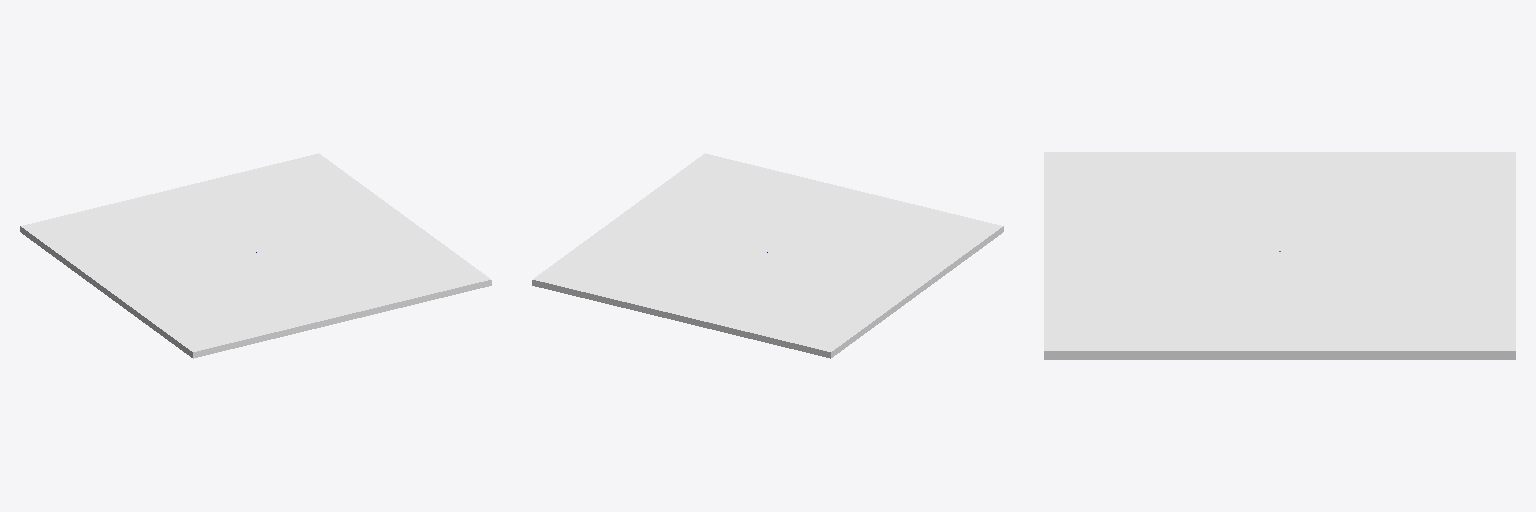
The robot description file, URDF, robot "idefX":
<?xml version="1.0" ?>
<robot name="idefX">
	<material name="black">
		<color rgba="0.0 0.0 0.0 1.0"/>
	</material>
	<material name="blue">
		<color rgba="0.0 0.0 0.8 1.0"/>
	</material>
	<material name="green">
		<color rgba="0.0 0.8 0.0 1.0"/>
	</material>
	<material name="grey">
		<color rgba="0.2 0.2 0.2 1.0"/>
	</material>
	<material name="silver">
		<color rgba="0.913725490196 0.913725490196 0.847058823529 1.0"/>
	</material>
	<material name="orange">
		<color rgba="1.0 0.423529411765 0.0392156862745 1.0"/>
	</material>
	<material name="brown">
		<color rgba="0.870588235294 0.811764705882 0.764705882353 1.0"/>
	</material>
	<material name="red">
		<color rgba="0.8 0.0 0.0 1.0"/>
	</material>
	<material name="white">
		<color rgba="1.0 1.0 1.0 1.0"/>
	</material>
	<link name="ground">
		<visual>
			<origin xyz="0 0 -1" rpy="0 0 0"/>
			<geometry>
				<box size="100 100 2"/>
			</geometry>
			<material name="white"/>
		</visual>
		<collision>
			<origin xyz="0 0 -1" rpy="0 0 0"/>
			<geometry>
				<box size="100 100 2"/>
			</geometry>
		</collision>
	</link>
	<link name="trunk">
		<visual>
			<origin xyz="0 0 0" rpy="0 0 0"/>
			<geometry>
				<mesh filename="../data/idefX/trunk.dae"/>
			</geometry>
		</visual>
		<inertial>
			<origin xyz="0 0 0" rpy="0 0 0"/>
			<mass value="7.5"/>
			<inertia ixx="0.05" ixy="0" ixz="0" iyy="0.05" iyz="0" izz="0.05"/>
		</inertial>
	</link>
	<joint name="trunk_joint" type="floating">
		<origin rpy="0 0 0" xyz="0 0 0"/>
		<parent link="ground"/>
		<child link="trunk"/>
	</joint>
	<joint name="FL_first_motor_joint" type="fixed">
		<origin rpy="0 0 0" xyz="0.15250000000000002 0.075 0.0"/>
		<parent link="trunk"/>
		<child link="FL_first_motor"/>
	</joint>
	<link name="FL_first_motor">
		<visual>
			<origin xyz="0 0 0" rpy="0 1.5707963267948966 0"/>
			<geometry>
				<sphere radius="0.03"/>
			</geometry>
			<material name="blue"/>
		</visual>
		<inertial>
			<origin xyz="0 0 0" rpy="0 1.5707963267948966 0"/>
			<mass value="0.7"/>
			<inertia ixx="0.00184" ixy="0" ixz="0" iyy="0.00184" iyz="0" izz="0.0035"/>
		</inertial>
	</link>
	<joint name="FL_clavicle_joint" type="revolute">
		<origin rpy="0 0 0" xyz="0.225 0.075 -0.0"/>
		<parent link="trunk"/>
		<child link="FL_clavicle"/>
		<axis xyz="1 0 0"/>
		<dynamics damping="0" friction="0"/>
		<limit effort="10000" velocity="100000"/>
	</joint>
	<link name="FL_clavicle">
		<visual>
			<origin xyz="0 0.0325 0" rpy="0 0 0"/>
			<geometry>
				<sphere radius="0.03"/>
			</geometry>
			<material name="blue"/>
		</visual>
		<inertial>
			<origin xyz="0 0.0325 0" rpy="0 0 0"/>
			<mass value="0.7"/>
			<inertia ixx="0.00184" ixy="0" ixz="0" iyy="0.00184" iyz="0" izz="0.0035"/>
		</inertial>
	</link>
	<joint name="FL_arm_joint" type="revolute">
		<origin rpy="0 0 0" xyz="0 0.07 0"/>
		<parent link="FL_clavicle"/>
		<child link="FL_arm"/>
		<axis xyz="0 1 0"/>
		<dynamics damping="0" friction="0"/>
		<limit effort="10000" velocity="100000"/>
	</joint>
	<link name="FL_arm">
		<visual>
			<origin xyz="0 0 -0.098" rpy="0 0 0"/>
			<geometry>
				<sphere radius="0.03"/>
			</geometry>
			<material name="blue"/>
		</visual>
		<inertial>
			<origin xyz="0 0 -0.098" rpy="0 0 0"/>
			<mass value="0.2"/>
			<inertia ixx="0.0002" ixy="0" ixz="0" iyy="0.0002" iyz="0" izz="8e-05"/>
		</inertial>
	</link>
	<joint name="FL_third_motor_joint" type="fixed">
		<origin rpy="0 0 0" xyz="0.0 0.037500000000000006 0.0"/>
		<parent link="FL_arm"/>
		<child link="FL_third_motor"/>
	</joint>
	<link name="FL_third_motor">
		<visual>
			<origin xyz="0 0 0" rpy="0 0 0"/>
			<geometry>
				<sphere radius="0.03"/>
			</geometry>
			<material name="blue"/>
		</visual>
		<inertial>
			<origin xyz="0 0 0" rpy="0 0 0"/>
			<mass value="0.7"/>
			<inertia ixx="0.00184" ixy="0" ixz="0" iyy="0.00184" iyz="0" izz="0.0035"/>
		</inertial>
	</link>
	<joint name="FL_forearm_joint" type="revolute">
		<origin rpy="0 0 0" xyz="0 0.01 -0.196"/>
		<parent link="FL_arm"/>
		<child link="FL_forearm"/>
		<axis xyz="0 1 0"/>
		<dynamics damping="0" friction="0"/>
		<limit effort="10000" velocity="100000"/>
	</joint>
	<link name="FL_forearm">
		<visual>
			<origin xyz="0 0 -0.1" rpy="0 0 0"/>
			<geometry>
				<sphere radius="0.03"/>
			</geometry>
			<material name="blue"/>
		</visual>
		<inertial>
			<origin xyz="0 0 -0.1" rpy="0 0 0"/>
			<mass value="0.1"/>
			<inertia ixx="0.0001" ixy="0" ixz="0" iyy="0.0001" iyz="0" izz="4e-05"/>
		</inertial>
	</link>
	<joint name="FL_foot_joint" type="fixed">
		<origin rpy="0 0 0" xyz="0 0 -0.2"/>
		<parent link="FL_forearm"/>
		<child link="FL_foot"/>
	</joint>
	<link name="FL_foot">
		<visual>
			<origin xyz="0 0 0" rpy="0 0 0"/>
			<geometry>
				<sphere radius="0.03"/>
			</geometry>
			<material name="blue"/>
		</visual>
		<inertial>
			<origin xyz="0 0 0" rpy="0 0 0"/>
			<mass value="0.01"/>
			<inertia ixx="6e-06" ixy="0" ixz="0" iyy="6e-06" iyz="0" izz="6e-06"/>
		</inertial>
	</link>
	<joint name="FR_first_motor_joint" type="fixed">
		<origin rpy="0 0 0" xyz="0.15250000000000002 -0.075 0.0"/>
		<parent link="trunk"/>
		<child link="FR_first_motor"/>
	</joint>
	<link name="FR_first_motor">
		<visual>
			<origin xyz="0 0 0" rpy="0 1.5707963267948966 0"/>
			<geometry>
				<sphere radius="0.03"/>
			</geometry>
			<material name="blue"/>
		</visual>
		<inertial>
			<origin xyz="0 0 0" rpy="0 1.5707963267948966 0"/>
			<mass value="0.7"/>
			<inertia ixx="0.00184" ixy="0" ixz="0" iyy="0.00184" iyz="0" izz="0.0035"/>
		</inertial>
	</link>
	<joint name="FR_clavicle_joint" type="revolute">
		<origin rpy="0 0 0" xyz="0.225 -0.075 -0.0"/>
		<parent link="trunk"/>
		<child link="FR_clavicle"/>
		<axis xyz="1 0 0"/>
		<dynamics damping="0" friction="0"/>
		<limit effort="10000" velocity="100000"/>
	</joint>
	<link name="FR_clavicle">
		<visual>
			<origin xyz="0 -0.0325 0" rpy="0 0 0"/>
			<geometry>
				<sphere radius="0.03"/>
			</geometry>
			<material name="blue"/>
		</visual>
		<inertial>
			<origin xyz="0 -0.0325 0" rpy="0 0 0"/>
			<mass value="0.7"/>
			<inertia ixx="0.00184" ixy="0" ixz="0" iyy="0.00184" iyz="0" izz="0.0035"/>
		</inertial>
	</link>
	<joint name="FR_arm_joint" type="revolute">
		<origin rpy="0 0 0" xyz="0 -0.07 0"/>
		<parent link="FR_clavicle"/>
		<child link="FR_arm"/>
		<axis xyz="0 1 0"/>
		<dynamics damping="0" friction="0"/>
		<limit effort="10000" velocity="100000"/>
	</joint>
	<link name="FR_arm">
		<visual>
			<origin xyz="0 0 -0.098" rpy="0 0 0"/>
			<geometry>
				<sphere radius="0.03"/>
			</geometry>
			<material name="blue"/>
		</visual>
		<inertial>
			<origin xyz="0 0 -0.098" rpy="0 0 0"/>
			<mass value="0.2"/>
			<inertia ixx="0.0002" ixy="0" ixz="0" iyy="0.0002" iyz="0" izz="8e-05"/>
		</inertial>
	</link>
	<joint name="FR_third_motor_joint" type="fixed">
		<origin rpy="0 0 0" xyz="0.0 -0.037500000000000006 0.0"/>
		<parent link="FR_arm"/>
		<child link="FR_third_motor"/>
	</joint>
	<link name="FR_third_motor">
		<visual>
			<origin xyz="0 0 0" rpy="0 0 0"/>
			<geometry>
				<sphere radius="0.03"/>
			</geometry>
			<material name="blue"/>
		</visual>
		<inertial>
			<origin xyz="0 0 0" rpy="0 0 0"/>
			<mass value="0.7"/>
			<inertia ixx="0.00184" ixy="0" ixz="0" iyy="0.00184" iyz="0" izz="0.0035"/>
		</inertial>
	</link>
	<joint name="FR_forearm_joint" type="revolute">
		<origin rpy="0 0 0" xyz="0 -0.01 -0.196"/>
		<parent link="FR_arm"/>
		<child link="FR_forearm"/>
		<axis xyz="0 1 0"/>
		<dynamics damping="0" friction="0"/>
		<limit effort="10000" velocity="100000"/>
	</joint>
	<link name="FR_forearm">
		<visual>
			<origin xyz="0 0 -0.1" rpy="0 0 0"/>
			<geometry>
				<sphere radius="0.03"/>
			</geometry>
			<material name="blue"/>
		</visual>
		<inertial>
			<origin xyz="0 0 -0.1" rpy="0 0 0"/>
			<mass value="0.1"/>
			<inertia ixx="0.0001" ixy="0" ixz="0" iyy="0.0001" iyz="0" izz="4e-05"/>
		</inertial>
	</link>
	<joint name="FR_foot_joint" type="fixed">
		<origin rpy="0 0 0" xyz="0 0 -0.2"/>
		<parent link="FR_forearm"/>
		<child link="FR_foot"/>
	</joint>
	<link name="FR_foot">
		<visual>
			<origin xyz="0 0 0" rpy="0 0 0"/>
			<geometry>
				<sphere radius="0.03"/>
			</geometry>
			<material name="blue"/>
		</visual>
		<inertial>
			<origin xyz="0 0 0" rpy="0 0 0"/>
			<mass value="0.01"/>
			<inertia ixx="6e-06" ixy="0" ixz="0" iyy="6e-06" iyz="0" izz="6e-06"/>
		</inertial>
	</link>
	<joint name="BL_first_motor_joint" type="fixed">
		<origin rpy="0 0 0" xyz="-0.15250000000000002 0.075 0.0"/>
		<parent link="trunk"/>
		<child link="BL_first_motor"/>
	</joint>
	<link name="BL_first_motor">
		<visual>
			<origin xyz="0 0 0" rpy="0 1.5707963267948966 0"/>
			<geometry>
				<sphere radius="0.03"/>
			</geometry>
			<material name="blue"/>
		</visual>
		<inertial>
			<origin xyz="0 0 0" rpy="0 1.5707963267948966 0"/>
			<mass value="0.7"/>
			<inertia ixx="0.00184" ixy="0" ixz="0" iyy="0.00184" iyz="0" izz="0.0035"/>
		</inertial>
	</link>
	<joint name="BL_clavicle_joint" type="revolute">
		<origin rpy="0 0 0" xyz="-0.225 0.075 -0.0"/>
		<parent link="trunk"/>
		<child link="BL_clavicle"/>
		<axis xyz="1 0 0"/>
		<dynamics damping="0" friction="0"/>
		<limit effort="10000" velocity="100000"/>
	</joint>
	<link name="BL_clavicle">
		<visual>
			<origin xyz="0 0.0325 0" rpy="0 0 0"/>
			<geometry>
				<sphere radius="0.03"/>
			</geometry>
			<material name="blue"/>
		</visual>
		<inertial>
			<origin xyz="0 0.0325 0" rpy="0 0 0"/>
			<mass value="0.7"/>
			<inertia ixx="0.00184" ixy="0" ixz="0" iyy="0.00184" iyz="0" izz="0.0035"/>
		</inertial>
	</link>
	<joint name="BL_arm_joint" type="revolute">
		<origin rpy="0 0 0" xyz="0 0.07 0"/>
		<parent link="BL_clavicle"/>
		<child link="BL_arm"/>
		<axis xyz="0 1 0"/>
		<dynamics damping="0" friction="0"/>
		<limit effort="10000" velocity="100000"/>
	</joint>
	<link name="BL_arm">
		<visual>
			<origin xyz="0 0 -0.098" rpy="0 0 0"/>
			<geometry>
				<sphere radius="0.03"/>
			</geometry>
			<material name="blue"/>
		</visual>
		<inertial>
			<origin xyz="0 0 -0.098" rpy="0 0 0"/>
			<mass value="0.2"/>
			<inertia ixx="0.0002" ixy="0" ixz="0" iyy="0.0002" iyz="0" izz="8e-05"/>
		</inertial>
	</link>
	<joint name="BL_third_motor_joint" type="fixed">
		<origin rpy="0 0 0" xyz="0.0 0.037500000000000006 0.0"/>
		<parent link="BL_arm"/>
		<child link="BL_third_motor"/>
	</joint>
	<link name="BL_third_motor">
		<visual>
			<origin xyz="0 0 0" rpy="0 0 0"/>
			<geometry>
				<sphere radius="0.03"/>
			</geometry>
			<material name="blue"/>
		</visual>
		<inertial>
			<origin xyz="0 0 0" rpy="0 0 0"/>
			<mass value="0.7"/>
			<inertia ixx="0.00184" ixy="0" ixz="0" iyy="0.00184" iyz="0" izz="0.0035"/>
		</inertial>
	</link>
	<joint name="BL_forearm_joint" type="revolute">
		<origin rpy="0 0 0" xyz="0 0.01 -0.196"/>
		<parent link="BL_arm"/>
		<child link="BL_forearm"/>
		<axis xyz="0 1 0"/>
		<dynamics damping="0" friction="0"/>
		<limit effort="10000" velocity="100000"/>
	</joint>
	<link name="BL_forearm">
		<visual>
			<origin xyz="0 0 -0.1" rpy="0 0 0"/>
			<geometry>
				<sphere radius="0.03"/>
			</geometry>
			<material name="blue"/>
		</visual>
		<inertial>
			<origin xyz="0 0 -0.1" rpy="0 0 0"/>
			<mass value="0.1"/>
			<inertia ixx="0.0001" ixy="0" ixz="0" iyy="0.0001" iyz="0" izz="4e-05"/>
		</inertial>
	</link>
	<joint name="BL_foot_joint" type="fixed">
		<origin rpy="0 0 0" xyz="0 0 -0.2"/>
		<parent link="BL_forearm"/>
		<child link="BL_foot"/>
	</joint>
	<link name="BL_foot">
		<visual>
			<origin xyz="0 0 0" rpy="0 0 0"/>
			<geometry>
				<sphere radius="0.03"/>
			</geometry>
			<material name="blue"/>
		</visual>
		<inertial>
			<origin xyz="0 0 0" rpy="0 0 0"/>
			<mass value="0.01"/>
			<inertia ixx="6e-06" ixy="0" ixz="0" iyy="6e-06" iyz="0" izz="6e-06"/>
		</inertial>
	</link>
	<joint name="BR_first_motor_joint" type="fixed">
		<origin rpy="0 0 0" xyz="-0.15250000000000002 -0.075 0.0"/>
		<parent link="trunk"/>
		<child link="BR_first_motor"/>
	</joint>
	<link name="BR_first_motor">
		<visual>
			<origin xyz="0 0 0" rpy="0 1.5707963267948966 0"/>
			<geometry>
				<sphere radius="0.03"/>
			</geometry>
			<material name="blue"/>
		</visual>
		<inertial>
			<origin xyz="0 0 0" rpy="0 1.5707963267948966 0"/>
			<mass value="0.7"/>
			<inertia ixx="0.00184" ixy="0" ixz="0" iyy="0.00184" iyz="0" izz="0.0035"/>
		</inertial>
	</link>
	<joint name="BR_clavicle_joint" type="revolute">
		<origin rpy="0 0 0" xyz="-0.225 -0.075 -0.0"/>
		<parent link="trunk"/>
		<child link="BR_clavicle"/>
		<axis xyz="1 0 0"/>
		<dynamics damping="0" friction="0"/>
		<limit effort="10000" velocity="100000"/>
	</joint>
	<link name="BR_clavicle">
		<visual>
			<origin xyz="0 -0.0325 0" rpy="0 0 0"/>
			<geometry>
				<sphere radius="0.03"/>
			</geometry>
			<material name="blue"/>
		</visual>
		<inertial>
			<origin xyz="0 -0.0325 0" rpy="0 0 0"/>
			<mass value="0.7"/>
			<inertia ixx="0.00184" ixy="0" ixz="0" iyy="0.00184" iyz="0" izz="0.0035"/>
		</inertial>
	</link>
	<joint name="BR_arm_joint" type="revolute">
		<origin rpy="0 0 0" xyz="0 -0.07 0"/>
		<parent link="BR_clavicle"/>
		<child link="BR_arm"/>
		<axis xyz="0 1 0"/>
		<dynamics damping="0" friction="0"/>
		<limit effort="10000" velocity="100000"/>
	</joint>
	<link name="BR_arm">
		<visual>
			<origin xyz="0 0 -0.098" rpy="0 0 0"/>
			<geometry>
				<sphere radius="0.03"/>
			</geometry>
			<material name="blue"/>
		</visual>
		<inertial>
			<origin xyz="0 0 -0.098" rpy="0 0 0"/>
			<mass value="0.2"/>
			<inertia ixx="0.0002" ixy="0" ixz="0" iyy="0.0002" iyz="0" izz="8e-05"/>
		</inertial>
	</link>
	<joint name="BR_third_motor_joint" type="fixed">
		<origin rpy="0 0 0" xyz="0.0 -0.037500000000000006 0.0"/>
		<parent link="BR_arm"/>
		<child link="BR_third_motor"/>
	</joint>
	<link name="BR_third_motor">
		<visual>
			<origin xyz="0 0 0" rpy="0 0 0"/>
			<geometry>
				<sphere radius="0.03"/>
			</geometry>
			<material name="blue"/>
		</visual>
		<inertial>
			<origin xyz="0 0 0" rpy="0 0 0"/>
			<mass value="0.7"/>
			<inertia ixx="0.00184" ixy="0" ixz="0" iyy="0.00184" iyz="0" izz="0.0035"/>
		</inertial>
	</link>
	<joint name="BR_forearm_joint" type="revolute">
		<origin rpy="0 0 0" xyz="0 -0.01 -0.196"/>
		<parent link="BR_arm"/>
		<child link="BR_forearm"/>
		<axis xyz="0 1 0"/>
		<dynamics damping="0" friction="0"/>
		<limit effort="10000" velocity="100000"/>
	</joint>
	<link name="BR_forearm">
		<visual>
			<origin xyz="0 0 -0.1" rpy="0 0 0"/>
			<geometry>
				<sphere radius="0.03"/>
			</geometry>
			<material name="blue"/>
		</visual>
		<inertial>
			<origin xyz="0 0 -0.1" rpy="0 0 0"/>
			<mass value="0.1"/>
			<inertia ixx="0.0001" ixy="0" ixz="0" iyy="0.0001" iyz="0" izz="4e-05"/>
		</inertial>
	</link>
	<joint name="BR_foot_joint" type="fixed">
		<origin rpy="0 0 0" xyz="0 0 -0.2"/>
		<parent link="BR_forearm"/>
		<child link="BR_foot"/>
	</joint>
	<link name="BR_foot">
		<visual>
			<origin xyz="0 0 0" rpy="0 0 0"/>
			<geometry>
				<sphere radius="0.03"/>
			</geometry>
			<material name="blue"/>
		</visual>
		<inertial>
			<origin xyz="0 0 0" rpy="0 0 0"/>
			<mass value="0.01"/>
			<inertia ixx="6e-06" ixy="0" ixz="0" iyy="6e-06" iyz="0" izz="6e-06"/>
		</inertial>
	</link>
</robot>

--- What the picture shows (computed from the rendered views, not written in the file) ---
The picture shows the robot from 3 angles, left to right: view 1: azimuth 30°, elevation 25°; view 2: azimuth 150°, elevation 25°; view 3: azimuth 270°, elevation 25°; orthographic projection.
Robot: idefX — 26 links, 25 joints (12 revolute, 12 fixed, 1 floating); root link ground; default pose: all joints at 0.
Visible links, largest first — view 1: ground; view 2: ground; view 3: ground.
Link boxes in pixels (<box>): ground: <box>20,153,491,358</box>; ground: <box>532,153,1003,358</box>; ground: <box>1044,152,1515,359</box>.
Bounding box of the posed robot: 100 × 100 × 2.12 m (x, y, z).
1 mesh visuals loaded from 1 distinct referenced files (1 Collada DAE).
